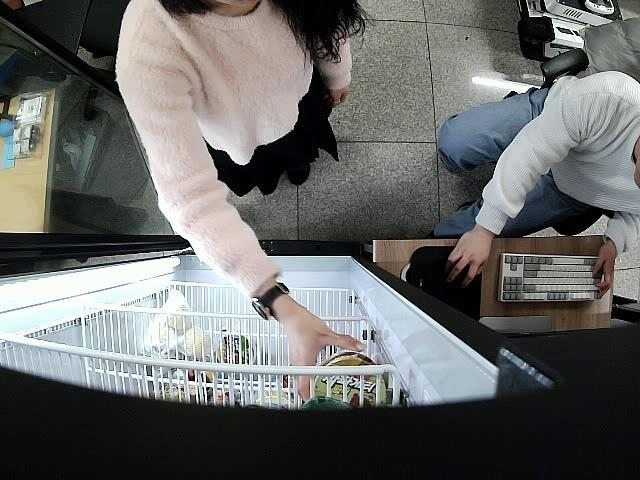04_chapagetti_S: (310, 349, 389, 413)
